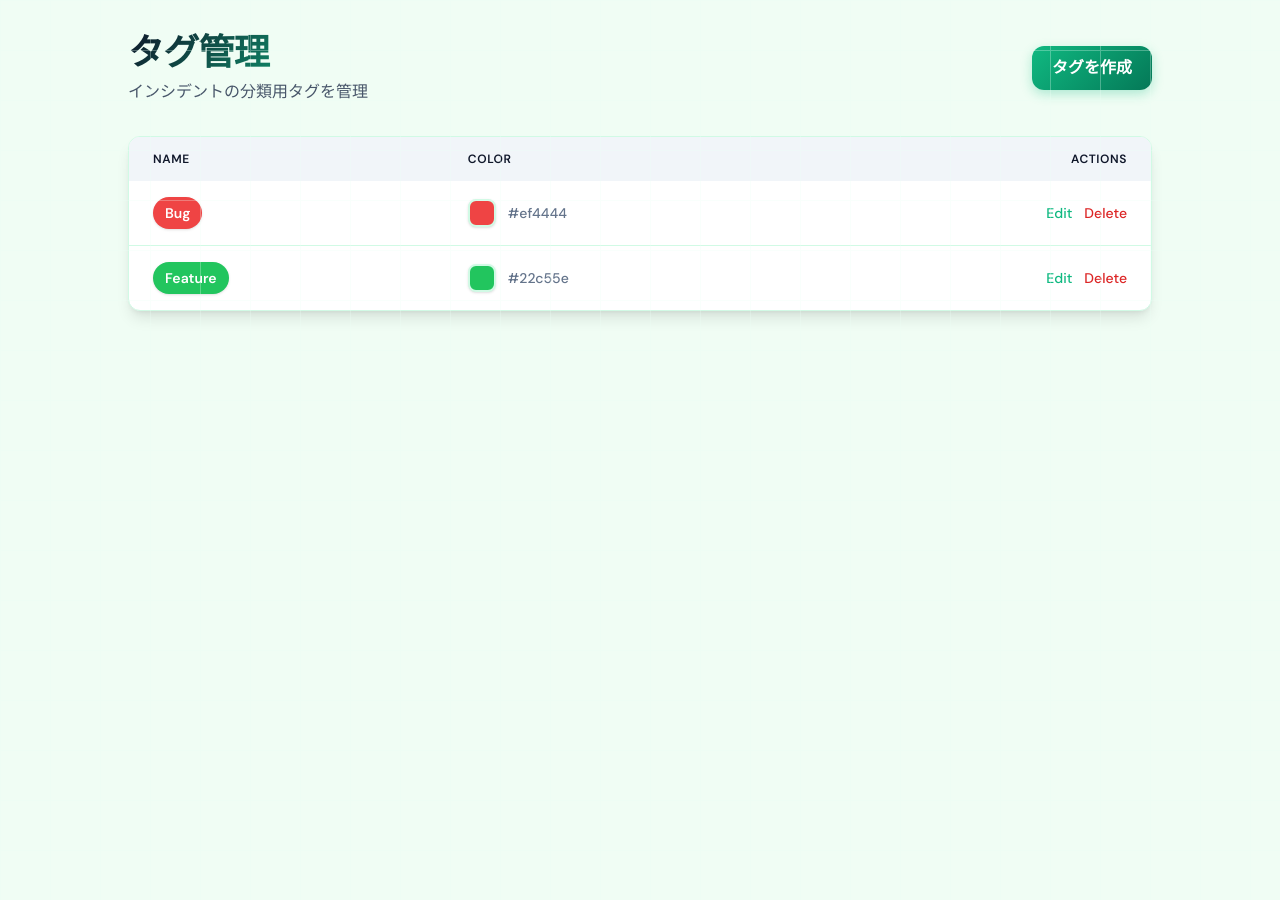
TagsPage › edit tag › opens edit modal with tag data
The image size is (1280, 900).
Click the button "Edit" in the row of "Bug" at [1059, 213], box [1046,203,1072,223]
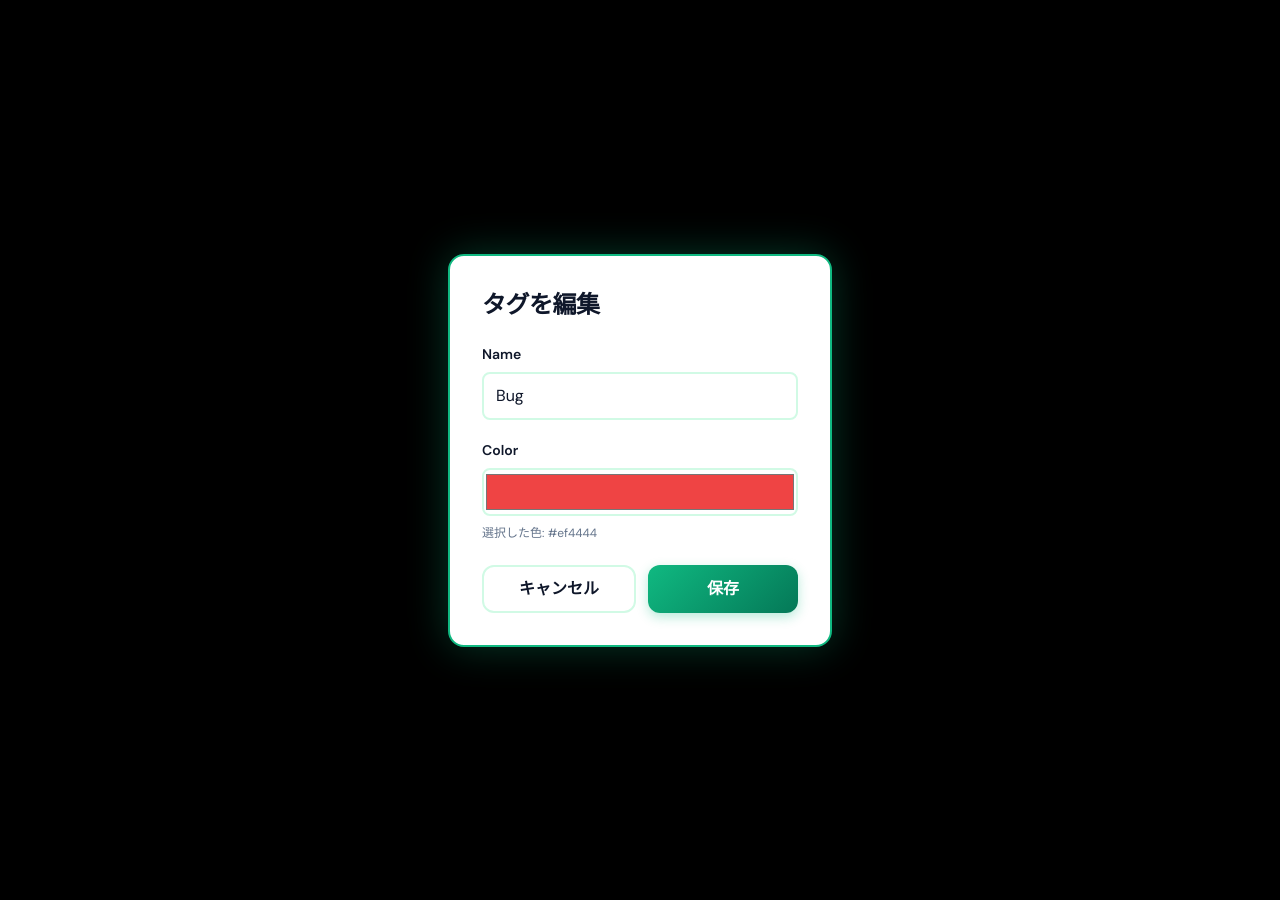
Expected: the heading "タグを編集" is shown, [482,288,600,318]
Expected: the field holds "Bug", [482,372,798,420]
